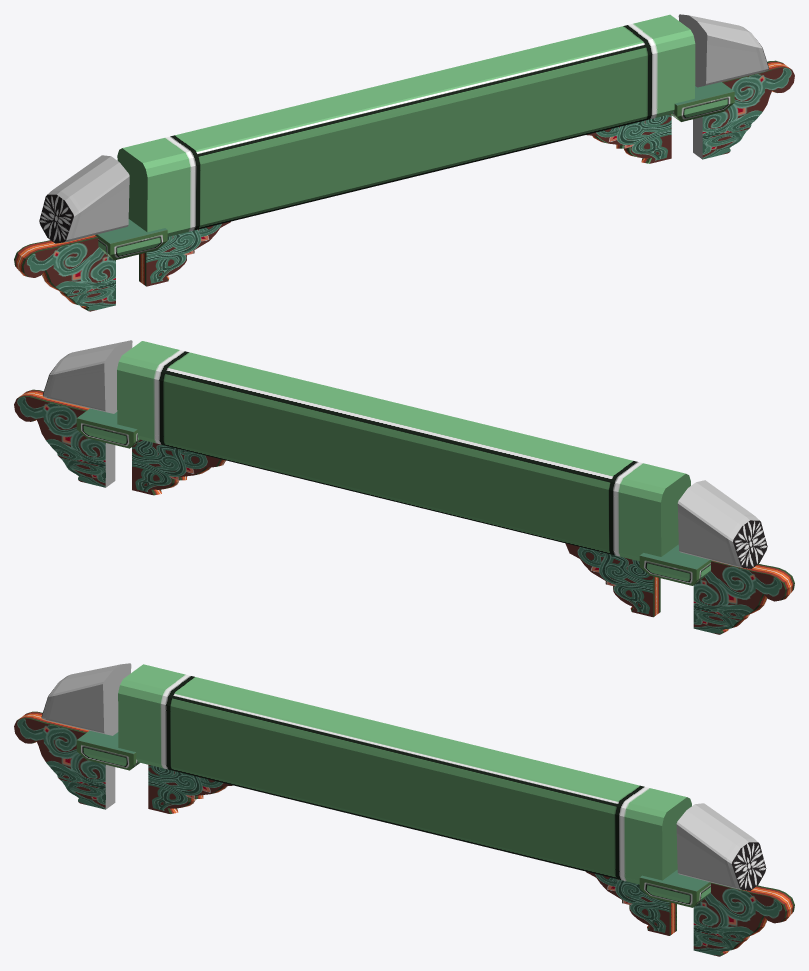
Rendered from SM_R_Beam_27.fbx.
3 views of the same model, one above another, from view 1: azimuth 30°, elevation 25°; view 2: azimuth 150°, elevation 25°; view 3: azimuth 330°, elevation 25° (orthographic).
Visible parts, largest first — view 1: SM_R_Beam_27_LOD0; view 2: SM_R_Beam_27_LOD0; view 3: SM_R_Beam_27_LOD0.
Part boxes in pixels (left/top/right/bottom): SM_R_Beam_27_LOD0: left=14, top=14, right=794, bottom=311; SM_R_Beam_27_LOD0: left=14, top=340, right=794, bottom=634; SM_R_Beam_27_LOD0: left=14, top=663, right=794, bottom=956.
Bounding box in the file's own units: 410 × 32.84 × 70.97.
